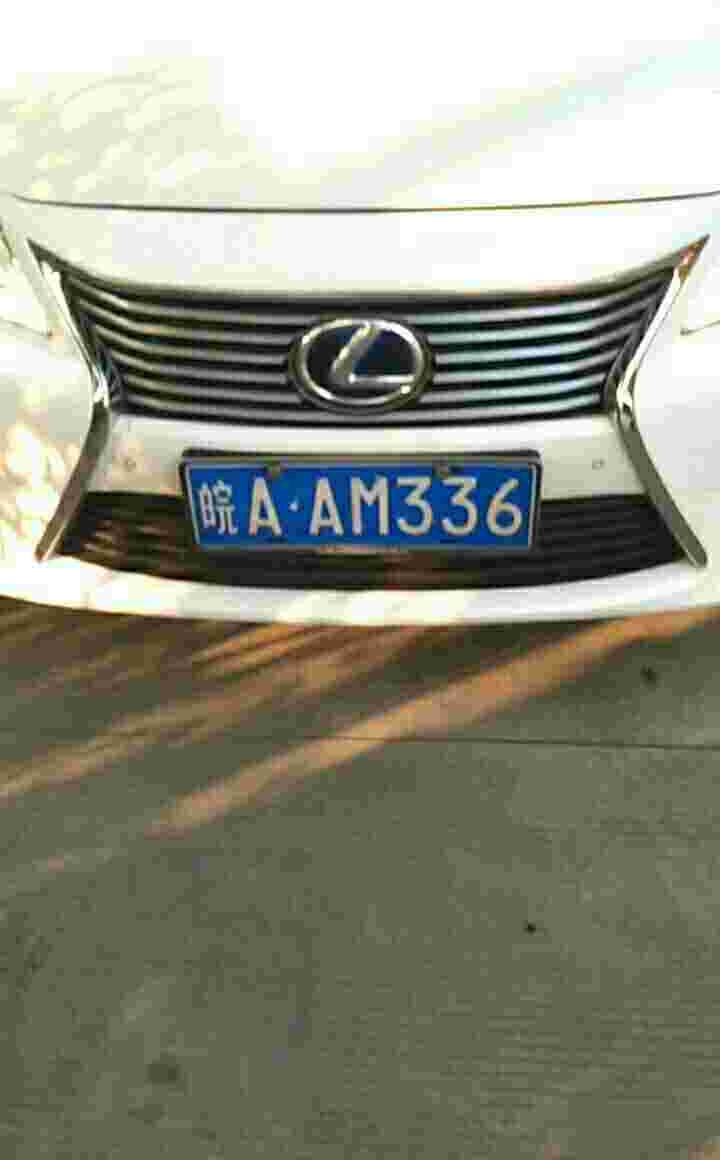license_plate: (173, 466, 549, 552)
